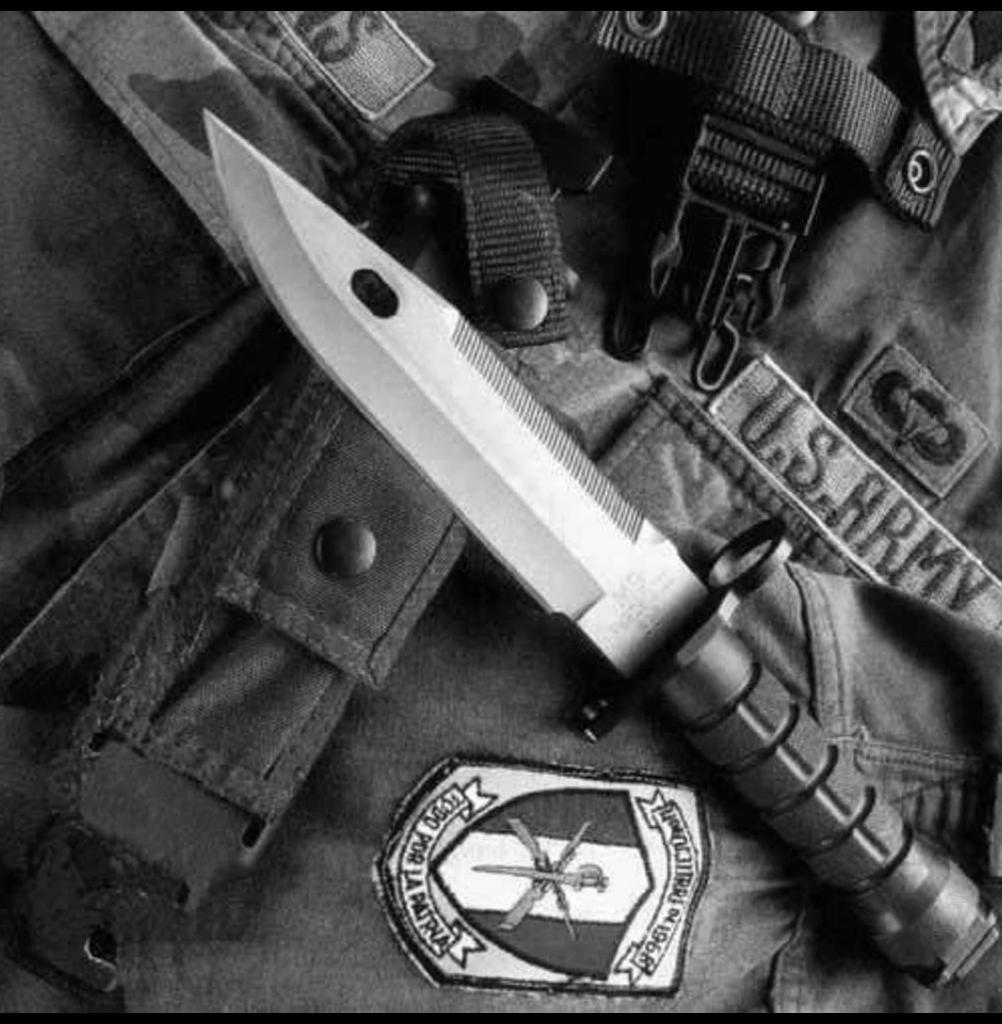melee: (201, 116, 993, 978)
